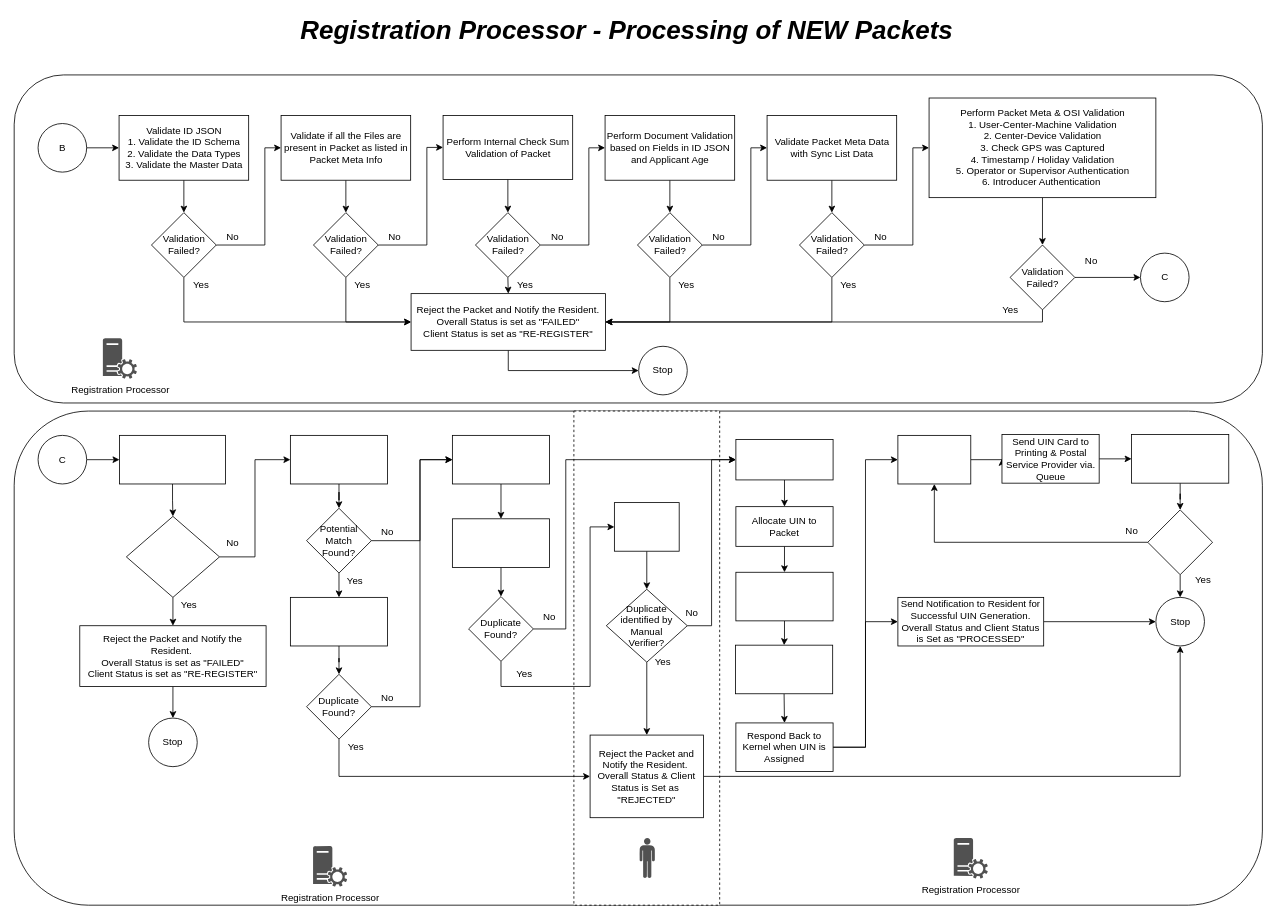
Some shapes in this 1277 by 919 pixel diagram are drawn without their labels. Here are the shapes that lost their labels. From the top down, the centre of each, then its label:
At (172,459): "Check the Quality of the Biometrics Capturd".
At (339,459): "Perform Demode-dupe (Exact Match on Name, DoB & Gender)".
At (501,459): "Perform Bio-dupe".
At (784,459): "Get UIN from Kernel".
At (934,459): "Generate UIN Card".
At (1180,458): "Receive Acknowledgement from Service Provider".
At (501,542): "Perform 1:N Match using ABIS".
At (646,526): "Send Packets to Manual Verifier".
At (1180,542): "Ack Says Success?".
At (173,556): "Quality Score is less than Threshold Configured?".
At (784,596): "Store ID JSON and Bio-metrics for the UIN in ID Repository".
At (339,621): "Perform 1:X Match using ABIS".
At (784,669): "Trigger Generation of VID for the UIN".
At (647,857): "Manual Verifier".
